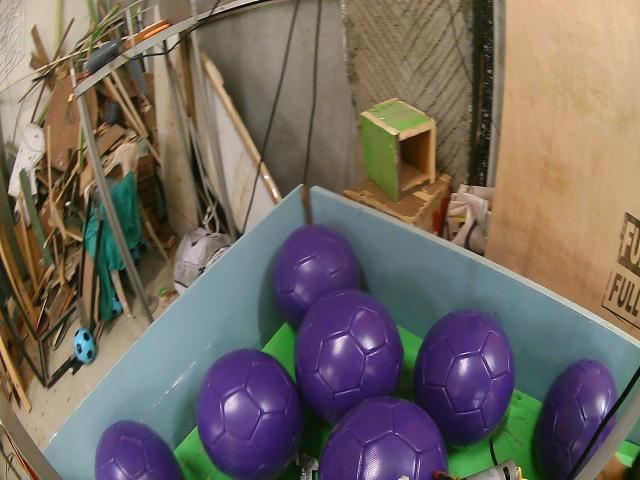jambhalya: (295, 288, 404, 425), (196, 348, 304, 478), (414, 310, 515, 446), (319, 397, 448, 480), (534, 358, 618, 479), (272, 223, 360, 328), (95, 420, 184, 480)
